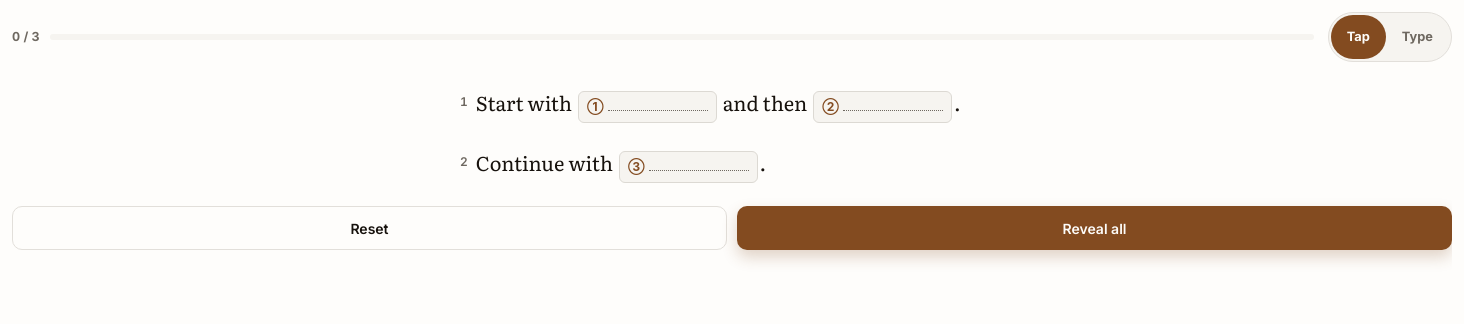
Scenario: ClozeTrainer › switching modes resets progress so the two are independent
Click the button with test id "cloze-blank" showing "①": click(647, 107) [578,91,717,123]
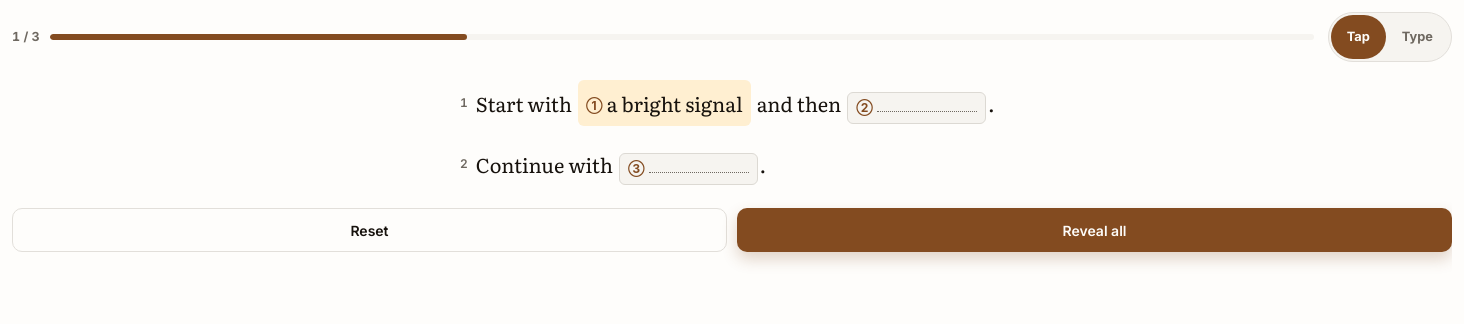
Check: the text "1 / 3" is shown, box [12,28,40,46]
Click the button "Type": click(1417, 37) [1386,15,1449,59]
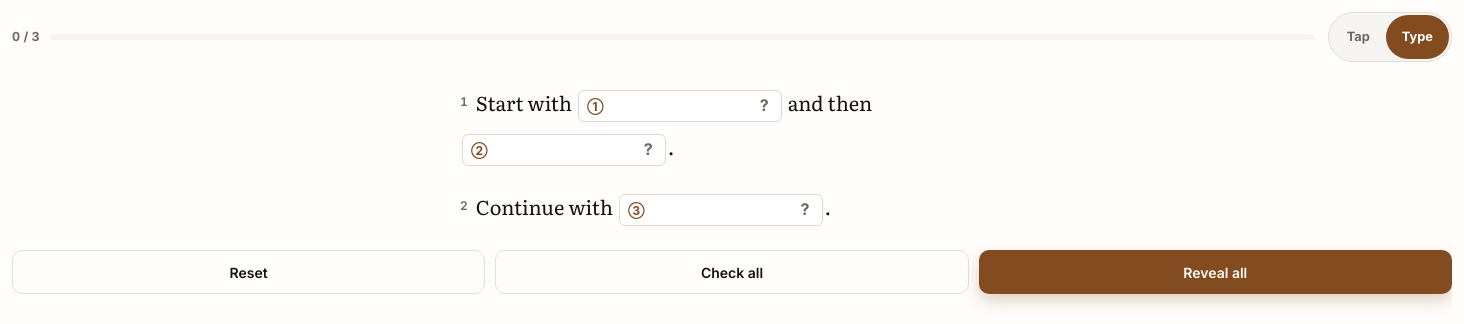
Check: the text "0 / 3" is shown, box [12,28,40,46]
Check: the number of fields with test id "cloze-input" is 3, box [610,92,754,116]; [494,136,638,160]; [651,196,795,220]
Click the button "Tap": click(1358, 37) [1331,15,1386,59]
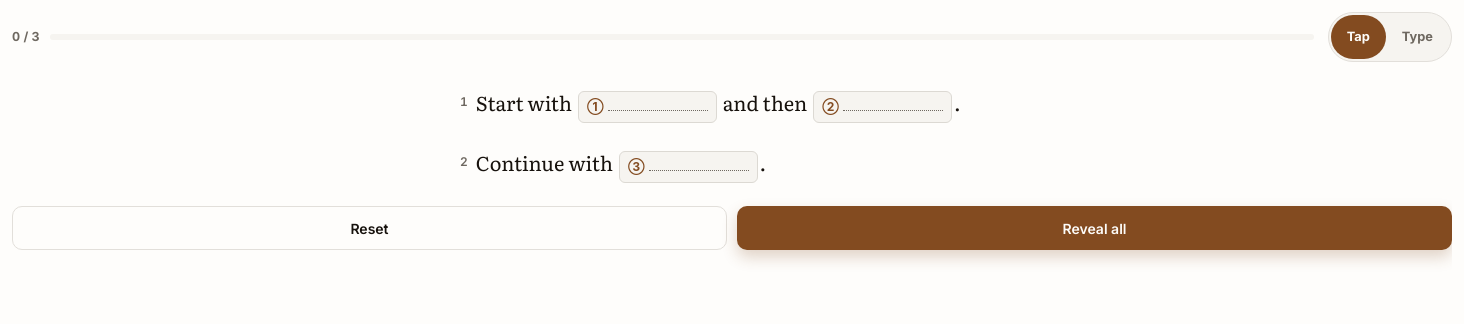
Check: the text "0 / 3" is shown, box [12,28,40,46]
Check: the number of buttons with test id "cloze-blank" is 3, box [578,91,717,123]; [813,91,952,123]; [619,151,758,183]
